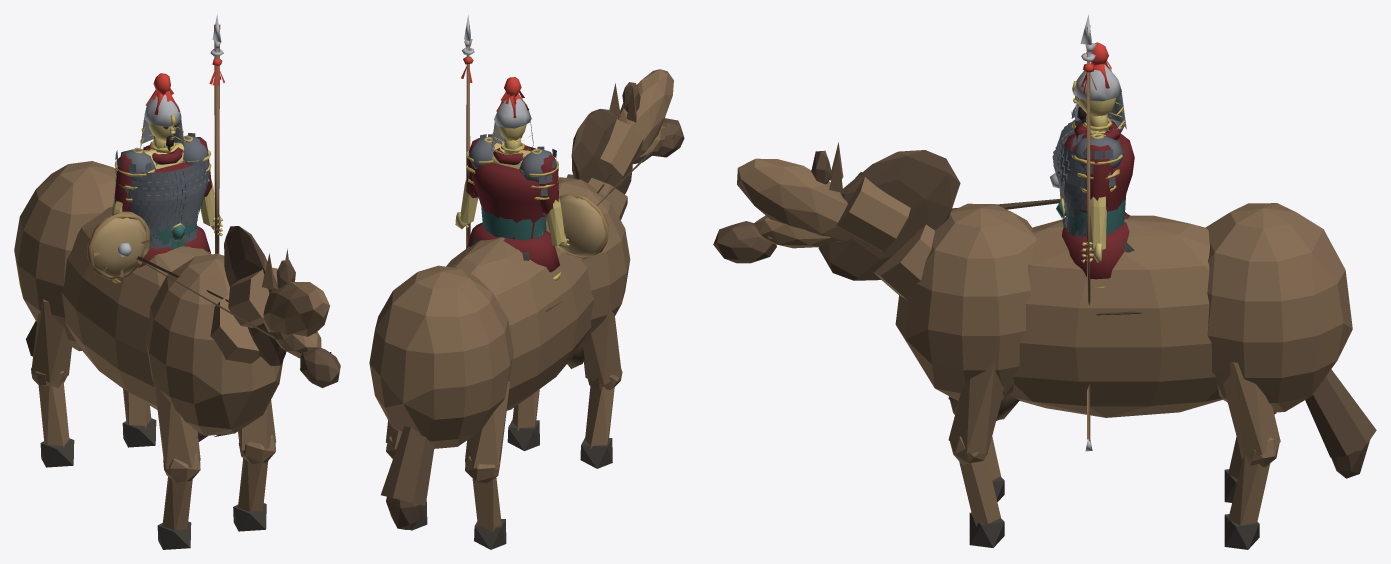
The model's file is unit_cav.glb.
3 views of the same model, side by side, from view 1: azimuth 30°, elevation 25°; view 2: azimuth 150°, elevation 25°; view 3: azimuth 270°, elevation 25° (orthographic). The views are drawn at different scales.
Visible parts, largest first — view 1: WpnLOD; view 2: WpnLOD; view 3: WpnLOD.
Part boxes in pixels (left/top/right/bottom): WpnLOD: left=14, top=14, right=340, bottom=549; WpnLOD: left=369, top=15, right=684, bottom=549; WpnLOD: left=713, top=14, right=1376, bottom=549.
Bounding box in the file's own units: 0.9121 × 2.77 × 3.12.
